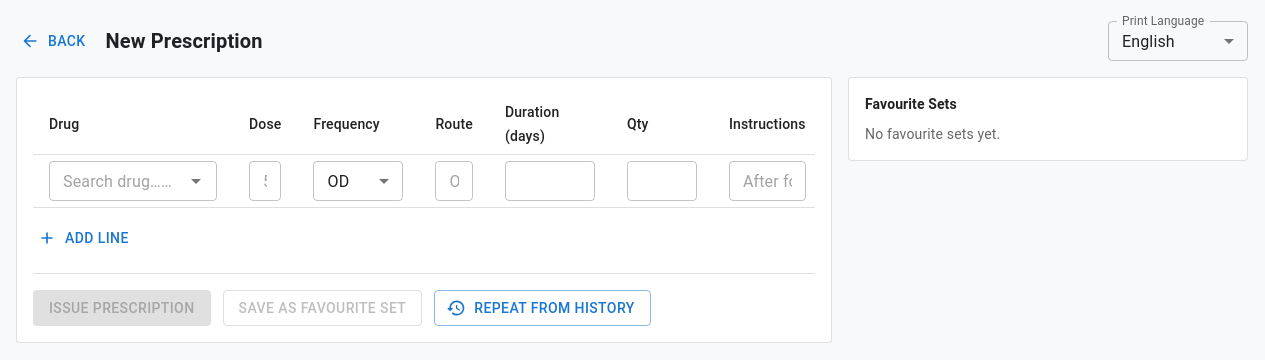
Test case: PrescriptionBuilder — drug self-add + favourites (REQ173) › unstars an already-favourited drug via the real removeFavouriteDrug mutation
Expected: the heading "New Prescription" is shown, [106, 29, 263, 53]
Click the button named "Open" at (196, 181), box [182, 167, 210, 195]
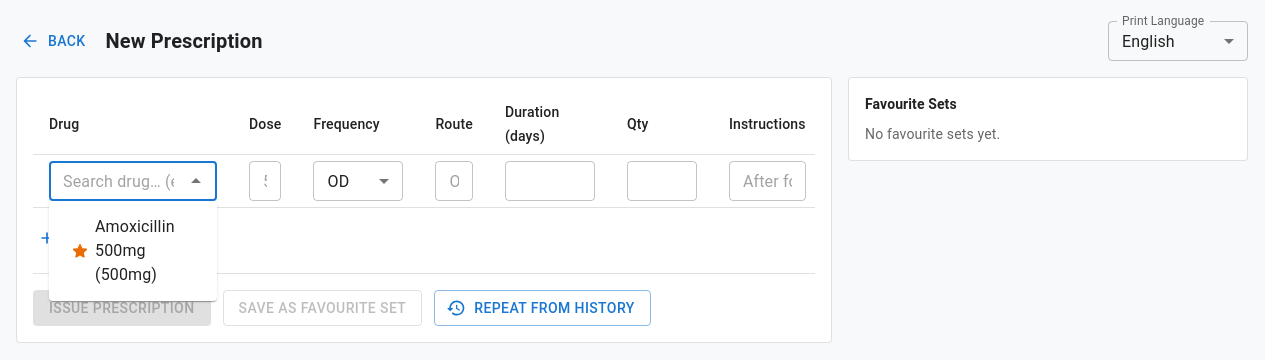
Click the button named "Remove from favourites" at (80, 251), box [65, 236, 95, 266]
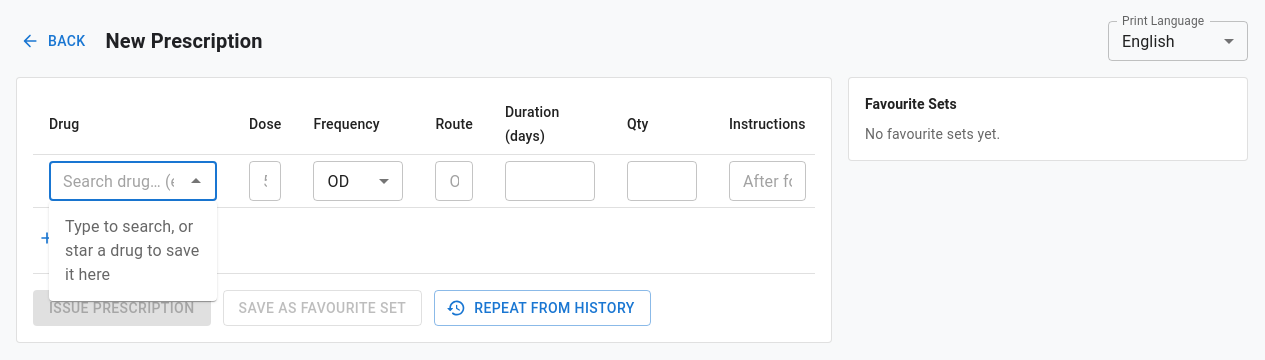
Now the option showing "Amoxicillin" is gone
